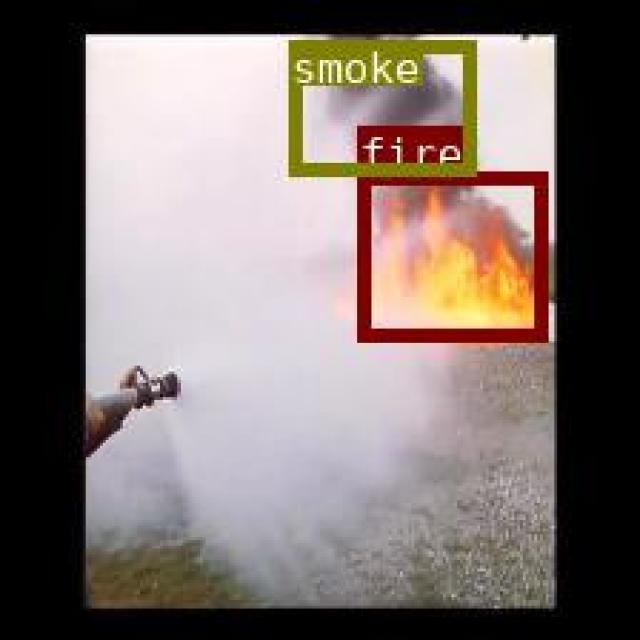fire: (356, 169, 545, 339)
smoke: (287, 39, 473, 174)
